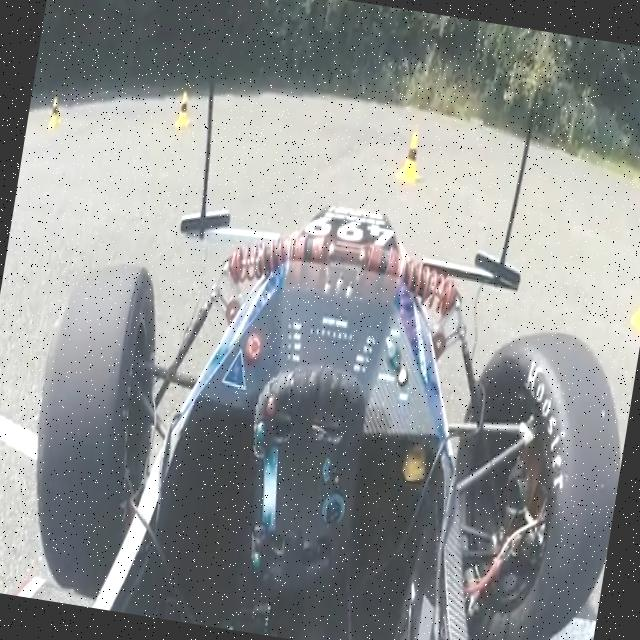yellow_cone: (395, 128, 427, 186), (628, 254, 640, 338), (173, 90, 194, 130), (46, 94, 64, 131)
